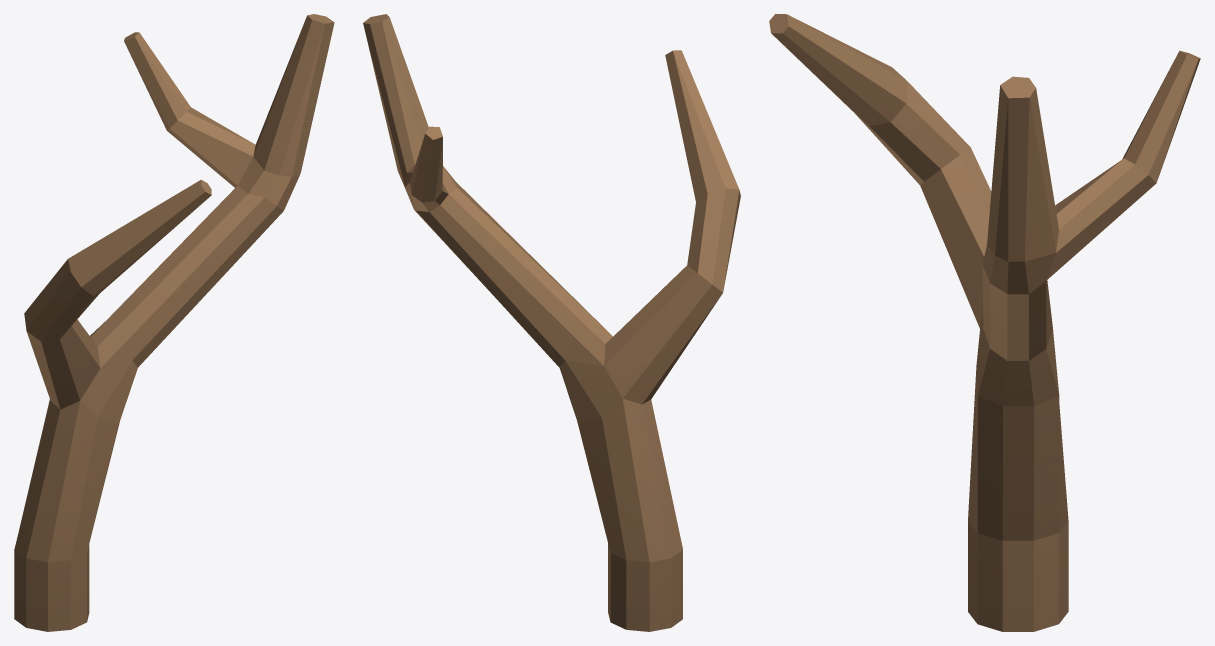
Rendered from Dead_Bush_A.obj.
3 views of the same model, side by side, from view 1: azimuth 30°, elevation 25°; view 2: azimuth 150°, elevation 25°; view 3: azimuth 270°, elevation 25° (orthographic). The views are drawn at different scales.
Visible parts, largest first — view 1: Dead_Bush_A; view 2: Dead_Bush_A; view 3: Dead_Bush_A.
Boxes of the visible parts, <box> form: Dead_Bush_A: <box>14,14,334,631</box>; Dead_Bush_A: <box>363,14,740,631</box>; Dead_Bush_A: <box>769,14,1200,631</box>.
Size of the model in its own units: 0.6099 by 0.9429 by 0.5268.
